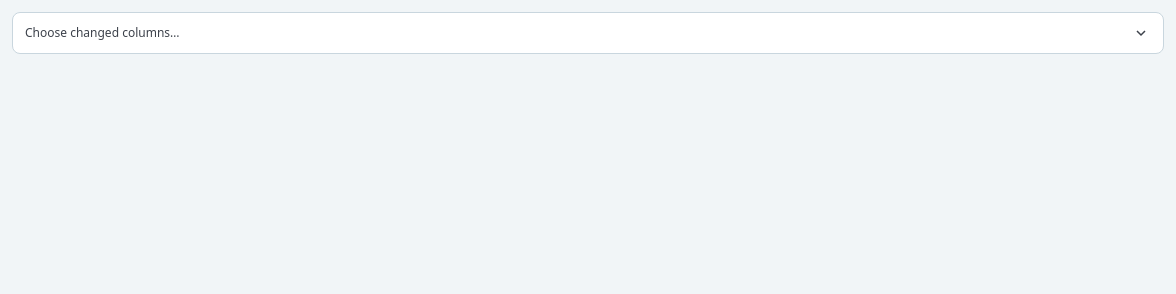
Test: Changed column picker › renders untrusted metadata as text and distinguishes an empty catalog from no catalog
The width and height of the screenshot is (1176, 294).
Later steps or results of the test are not shown.
Click the button with aria-label "Changed columns (optional)" at (102, 33), box [12,12,1164,54]
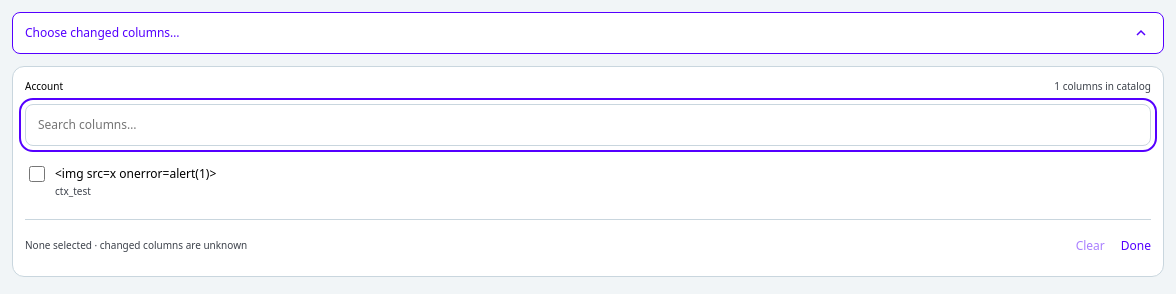
Result: the text "<img src=x onerror=alert(1)>" is shown at [55,164,216,182]
